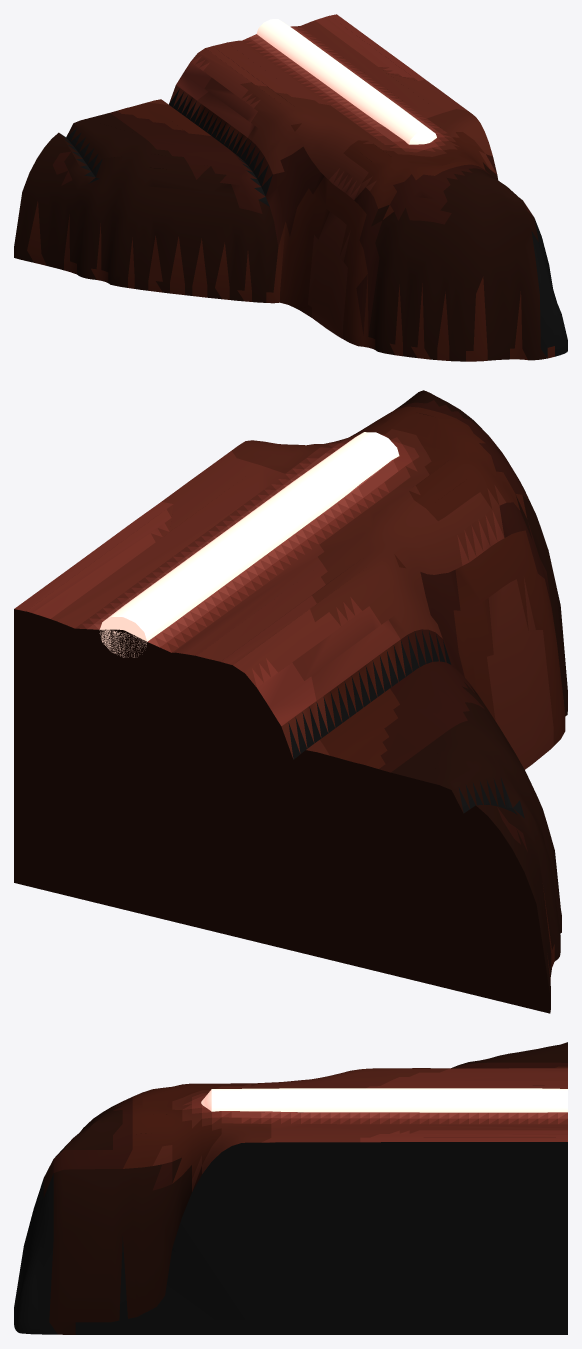
Rendered from savara_boss_270.glb.
3 renders of one model, top to bottom at view 1: azimuth 30°, elevation 25°; view 2: azimuth 150°, elevation 25°; view 3: azimuth 270°, elevation 25°, orthographic. The views are drawn at different scales.
Visible parts, largest first — view 1: savara_boss_270_hull; view 2: savara_boss_270_hull; view 3: savara_boss_270_hull.
Part boxes in pixels (x1,y1,x2,y2): savara_boss_270_hull: (14,14,567,361); savara_boss_270_hull: (14,390,567,1013); savara_boss_270_hull: (14,1042,567,1334).
Size of the model in its own units: 22.06 by 11.53 by 28.
